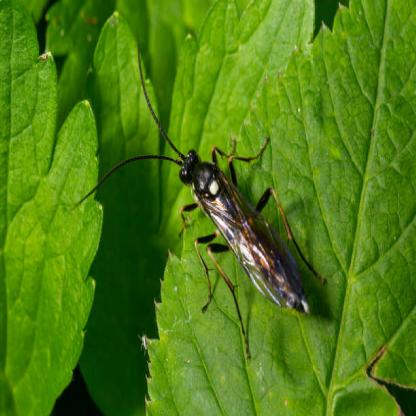sawfly: (82, 49, 338, 359)
